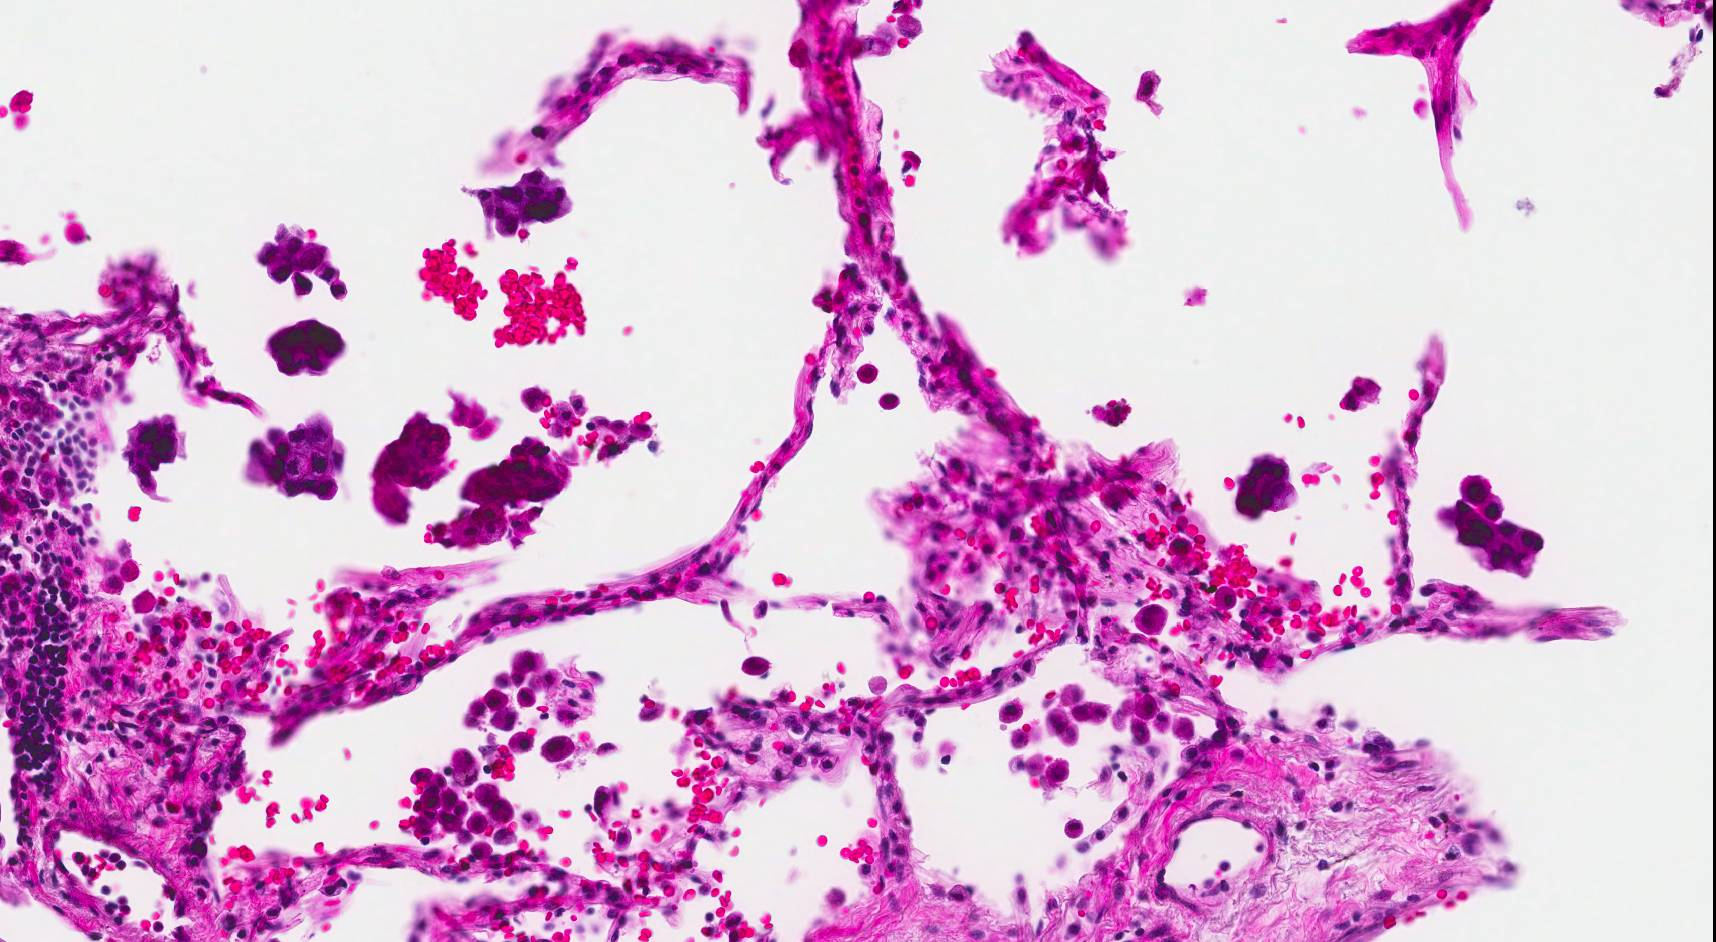stas: (442, 437, 571, 547), (1442, 470, 1550, 580), (372, 406, 452, 529), (246, 412, 341, 502), (253, 221, 353, 299), (471, 171, 576, 233), (261, 316, 355, 379), (119, 414, 185, 503), (1231, 451, 1301, 522)
